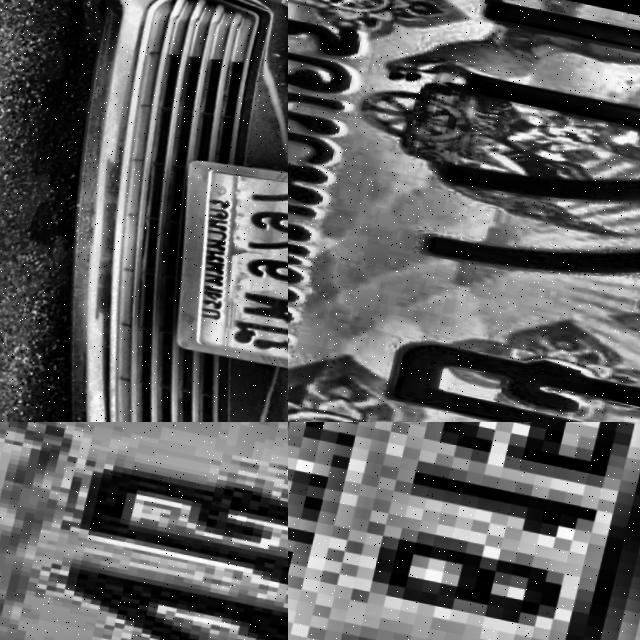license-plate: (288, 0, 640, 422), (288, 422, 640, 640), (0, 422, 288, 640), (149, 143, 288, 371)
